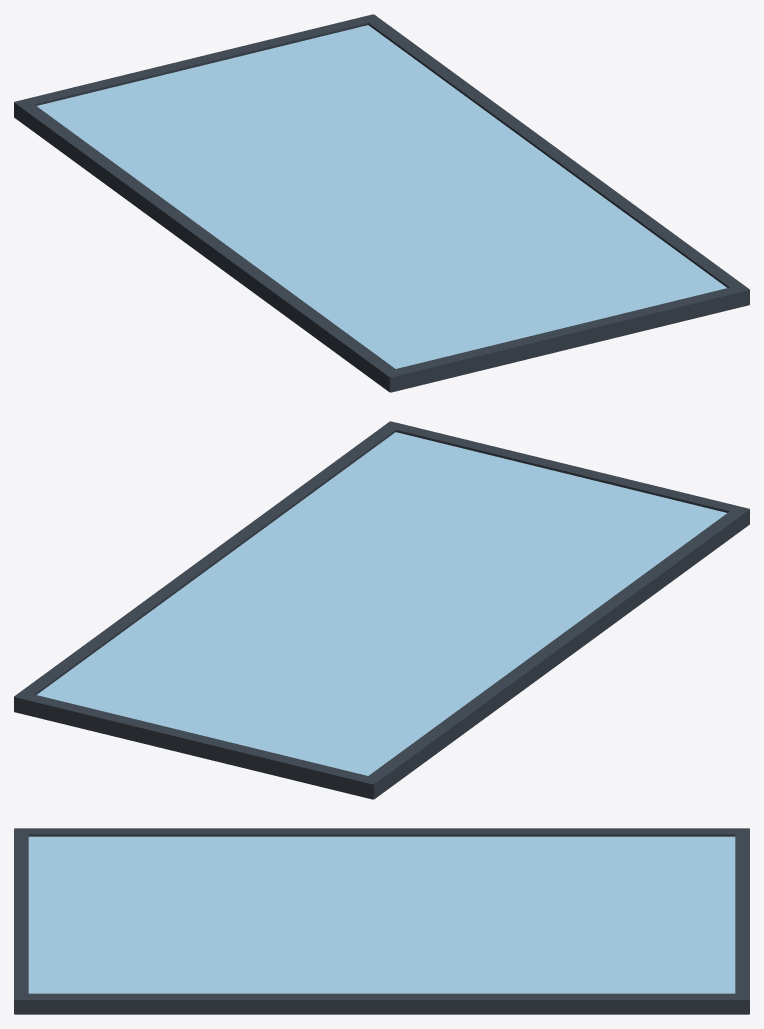
The model's file is ARCH_GLASS_PARTITION_001.glb.
The picture shows the model from 3 angles, top to bottom: view 1: azimuth 30°, elevation 25°; view 2: azimuth 150°, elevation 25°; view 3: azimuth 270°, elevation 25°; orthographic projection. The views are drawn at different scales.
Visible parts, largest first — view 1: glass_panel_000, side_frame_003, top_frame_001, side_frame_004, bottom_frame_002; view 2: glass_panel_000, side_frame_003, bottom_frame_002, side_frame_004, top_frame_001; view 3: glass_panel_000, side_frame_004, side_frame_003, top_frame_001, bottom_frame_002.
Part boxes in pixels (bbox=[...]): glass_panel_000: bbox=[37, 25, 726, 368]; side_frame_003: bbox=[14, 99, 400, 392]; top_frame_001: bbox=[384, 284, 749, 392]; side_frame_004: bbox=[365, 14, 749, 304]; bottom_frame_002: bbox=[14, 14, 379, 107]; glass_panel_000: bbox=[37, 432, 726, 775]; side_frame_003: bbox=[365, 506, 749, 799]; bottom_frame_002: bbox=[14, 691, 379, 799]; side_frame_004: bbox=[14, 421, 399, 711]; top_frame_001: bbox=[384, 421, 749, 513]; glass_panel_000: bbox=[28, 836, 735, 993]; side_frame_004: bbox=[14, 993, 749, 1014]; side_frame_003: bbox=[15, 828, 748, 836]; top_frame_001: bbox=[14, 828, 28, 1014]; bottom_frame_002: bbox=[735, 828, 749, 1014].
Size of the model in its own units: 1.25 by 0.05 by 2.26.
